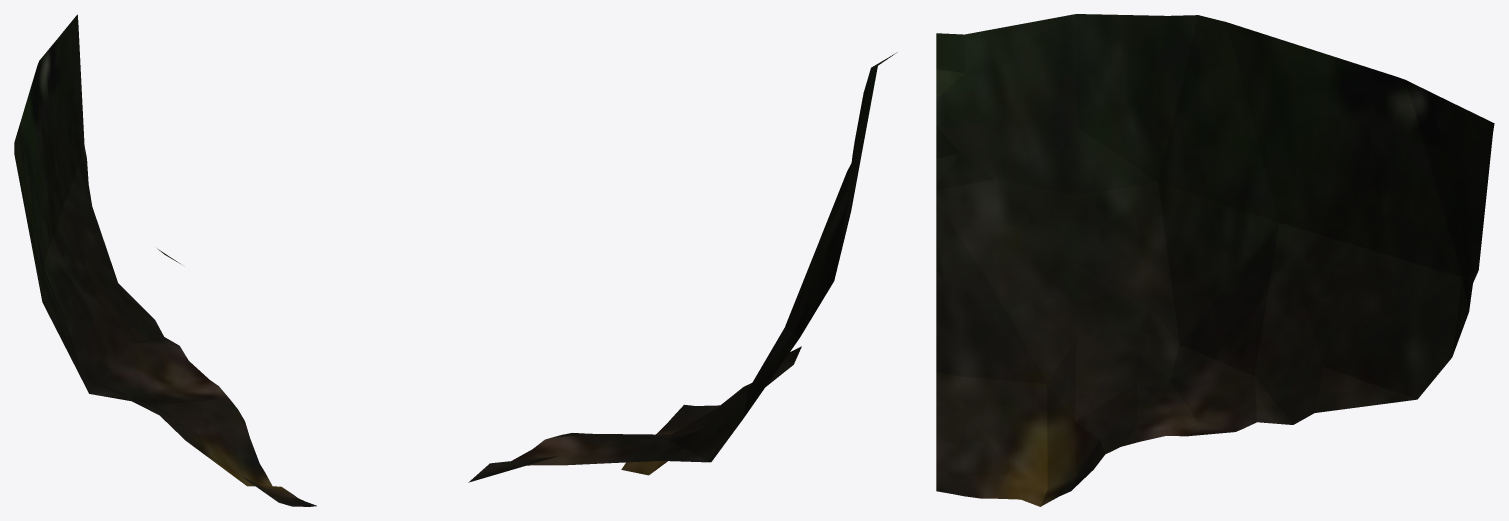
The picture shows the model from 3 angles, left to right: view 1: azimuth 30°, elevation 25°; view 2: azimuth 150°, elevation 25°; view 3: azimuth 270°, elevation 25°; orthographic projection. The views are drawn at different scales.
Size of the model in its own units: 0.1842 by 0.3013 by 0.3972.
1 material, 1 textured.
